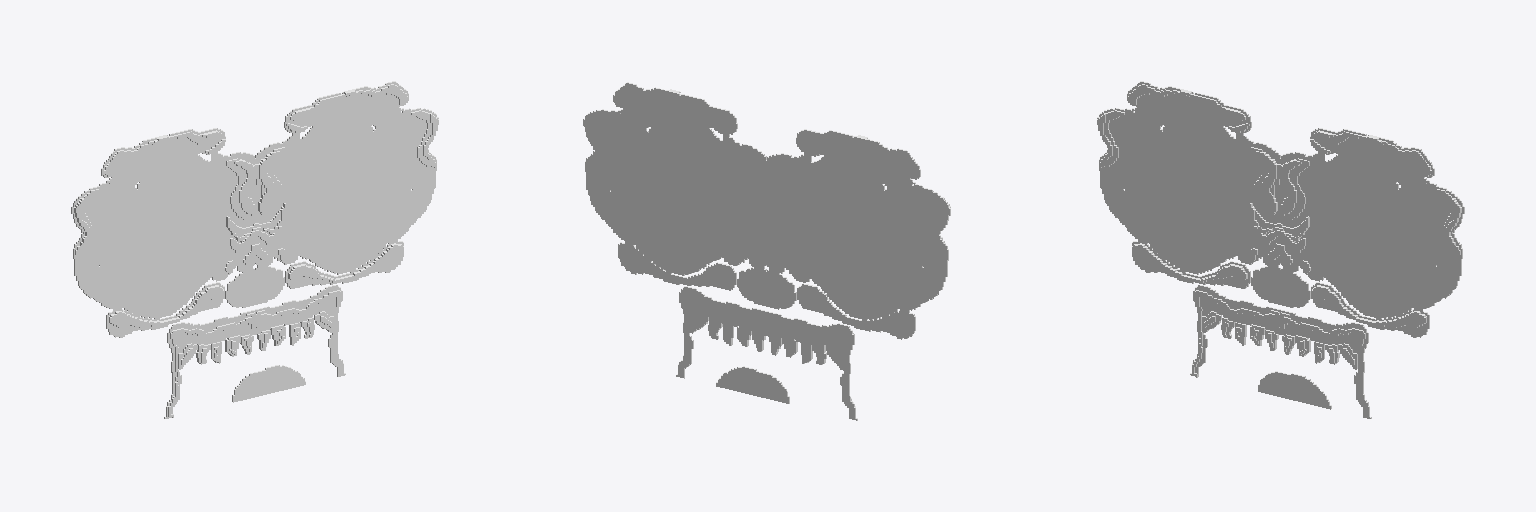
Rendered from boss_one.obj.
3 views of the same model, side by side, from view 1: azimuth 30°, elevation 25°; view 2: azimuth 150°, elevation 25°; view 3: azimuth 330°, elevation 25° (orthographic).
Visible parts, largest first — view 1: object 1; view 2: object 1; view 3: object 1.
Boxes of the visible parts, x1,y1,x2,y2 form: object 1: [71, 81, 438, 418]; object 1: [583, 82, 950, 420]; object 1: [1097, 81, 1464, 418].
Size of the model in its own units: 22.1 by 16.3 by 0.3.